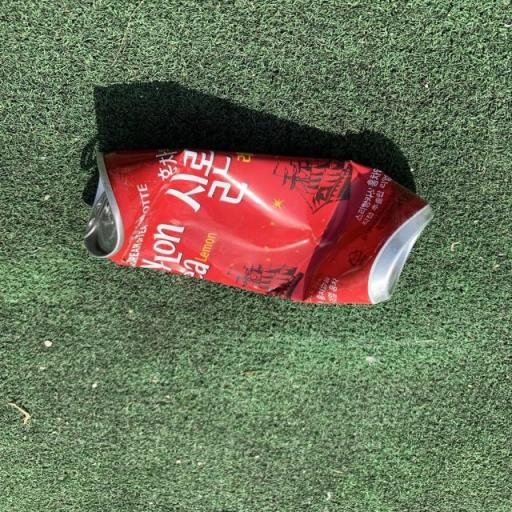metal: (56, 128, 457, 330)
